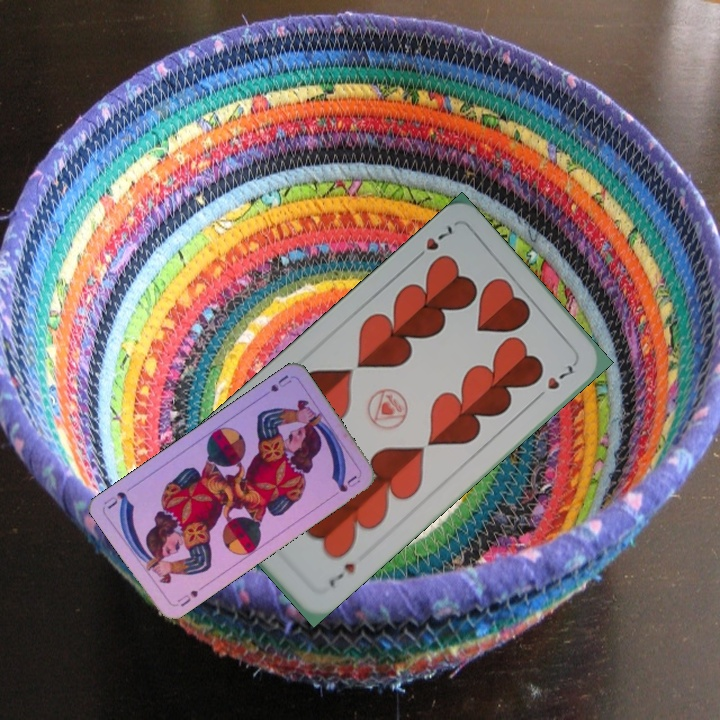H7: (409, 220, 456, 265), (324, 558, 358, 590)
SU: (257, 370, 294, 401), (173, 586, 201, 609)
